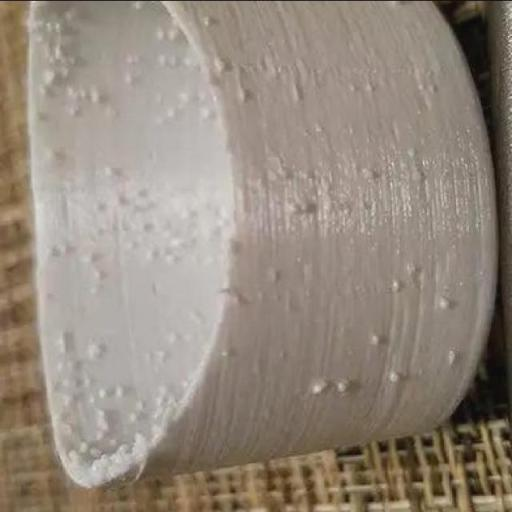blobs: (36, 61, 61, 86), (330, 375, 355, 395), (431, 290, 451, 315), (364, 330, 386, 352), (396, 259, 422, 277), (441, 344, 460, 368), (233, 81, 252, 105), (382, 365, 401, 387), (308, 374, 328, 394), (99, 161, 119, 179), (86, 438, 104, 458), (138, 219, 155, 239), (387, 276, 405, 294), (212, 56, 230, 74), (287, 196, 301, 219), (88, 85, 104, 105), (113, 382, 133, 398), (357, 168, 379, 182), (154, 51, 171, 69), (85, 344, 104, 360), (264, 267, 281, 284), (119, 67, 135, 85), (216, 344, 234, 360), (202, 12, 216, 32), (45, 242, 61, 259), (99, 386, 116, 400), (90, 268, 108, 278), (86, 249, 96, 265)
